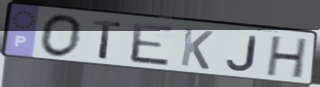E: (129, 21, 176, 69)
H: (264, 35, 311, 81)
J: (225, 34, 260, 73)
K: (178, 26, 216, 72)
O: (39, 13, 85, 60)
T: (91, 18, 124, 61)
